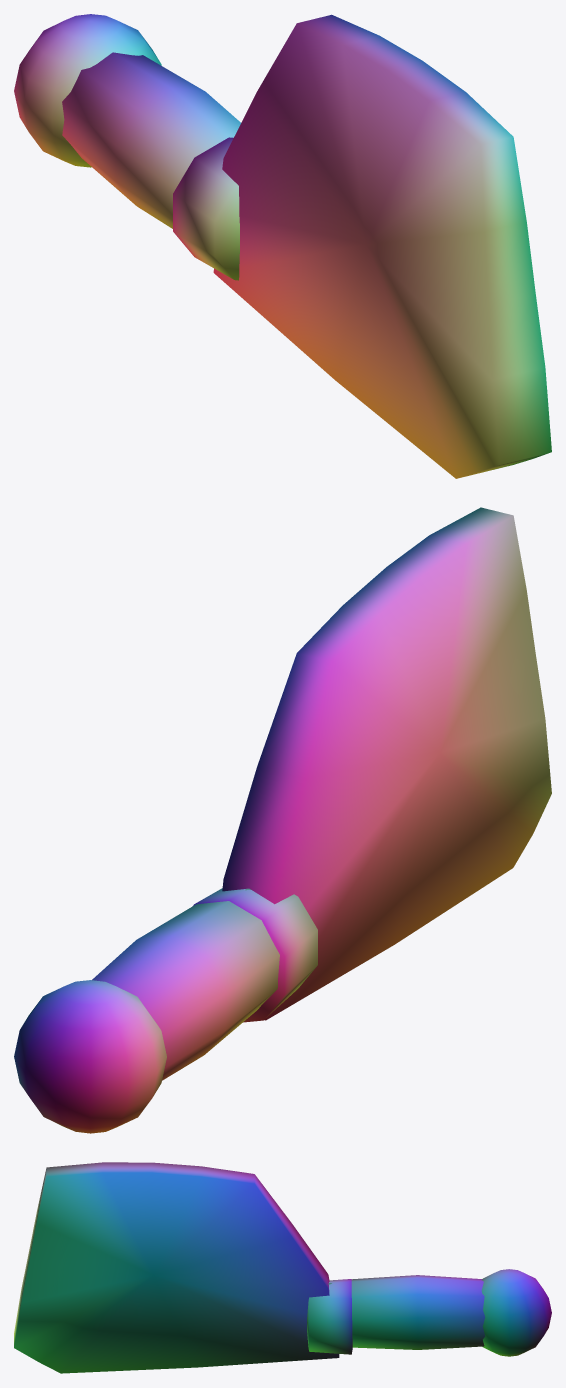
Rendered from SM_Mon_GoblinChief_Cleaver.fbx.
The picture shows the model from 3 angles, top to bottom: view 1: azimuth 30°, elevation 25°; view 2: azimuth 150°, elevation 25°; view 3: azimuth 270°, elevation 25°; orthographic projection. The views are drawn at different scales.
Parts seen in each view (by area): view 1: SM_Mon_GoblinChief_Cleaver; view 2: SM_Mon_GoblinChief_Cleaver; view 3: SM_Mon_GoblinChief_Cleaver.
Part boxes in pixels (<box>): SM_Mon_GoblinChief_Cleaver: <box>14,14,551,478</box>; SM_Mon_GoblinChief_Cleaver: <box>14,507,551,1133</box>; SM_Mon_GoblinChief_Cleaver: <box>14,1162,551,1373</box>.
Size of the model in its own units: 0.0917 by 0.2285 by 0.5626.
